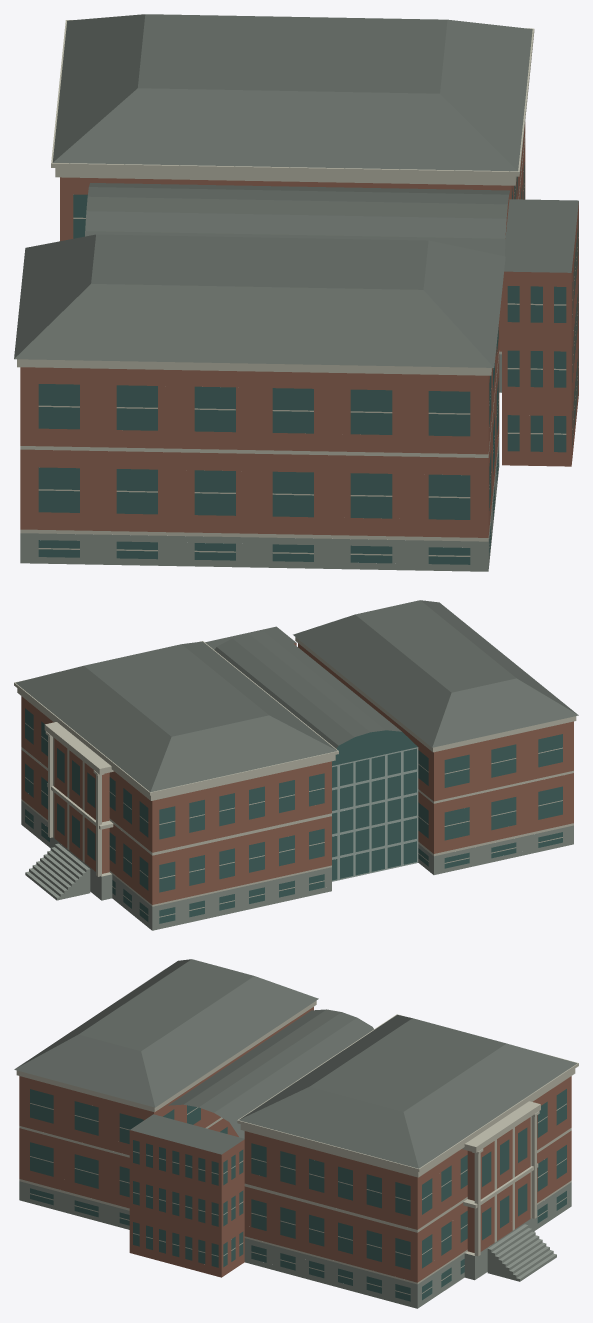
Rendered from port-coquitlam-city-hall-far.glb.
The picture shows the model from 3 angles, top to bottom: view 1: azimuth 30°, elevation 25°; view 2: azimuth 150°, elevation 25°; view 3: azimuth 270°, elevation 25°; orthographic projection. The views are drawn at different scales.
Visible parts, largest first — view 1: port-coquitlam-city-hall-0-roof, port-coquitlam-city-hall-0-brick, port-coquitlam-city-hall-0-glass, port-coquitlam-city-hall-0-trim, port-coquitlam-city-hall-0-plinth; view 2: port-coquitlam-city-hall-0-roof, port-coquitlam-city-hall-0-brick, port-coquitlam-city-hall-0-glass, port-coquitlam-city-hall-0-trim, port-coquitlam-city-hall-0-plinth, port-coquitlam-city-hall-0-metal; view 3: port-coquitlam-city-hall-0-roof, port-coquitlam-city-hall-0-brick, port-coquitlam-city-hall-0-glass, port-coquitlam-city-hall-0-trim, port-coquitlam-city-hall-0-plinth.
Boxes of the visible parts, box(x1,y1,x2,y2) form: port-coquitlam-city-hall-0-roof: box(14, 14, 578, 367); port-coquitlam-city-hall-0-brick: box(20, 122, 578, 537); port-coquitlam-city-hall-0-glass: box(38, 162, 578, 564); port-coquitlam-city-hall-0-trim: box(17, 20, 578, 556); port-coquitlam-city-hall-0-plinth: box(20, 354, 501, 571); port-coquitlam-city-hall-0-roof: box(15, 600, 578, 792); port-coquitlam-city-hall-0-brick: box(21, 643, 573, 904); port-coquitlam-city-hall-0-glass: box(25, 708, 562, 923); port-coquitlam-city-hall-0-trim: box(14, 637, 576, 917); port-coquitlam-city-hall-0-plinth: box(21, 801, 573, 930); port-coquitlam-city-hall-0-metal: box(332, 747, 418, 881); port-coquitlam-city-hall-0-roof: box(14, 959, 577, 1168); port-coquitlam-city-hall-0-brick: box(19, 1007, 571, 1282); port-coquitlam-city-hall-0-glass: box(30, 1089, 566, 1301); port-coquitlam-city-hall-0-trim: box(16, 1000, 578, 1294); port-coquitlam-city-hall-0-plinth: box(19, 1181, 571, 1308).
Bounding box in the file's own units: 40.67 × 14.6 × 44.13.
